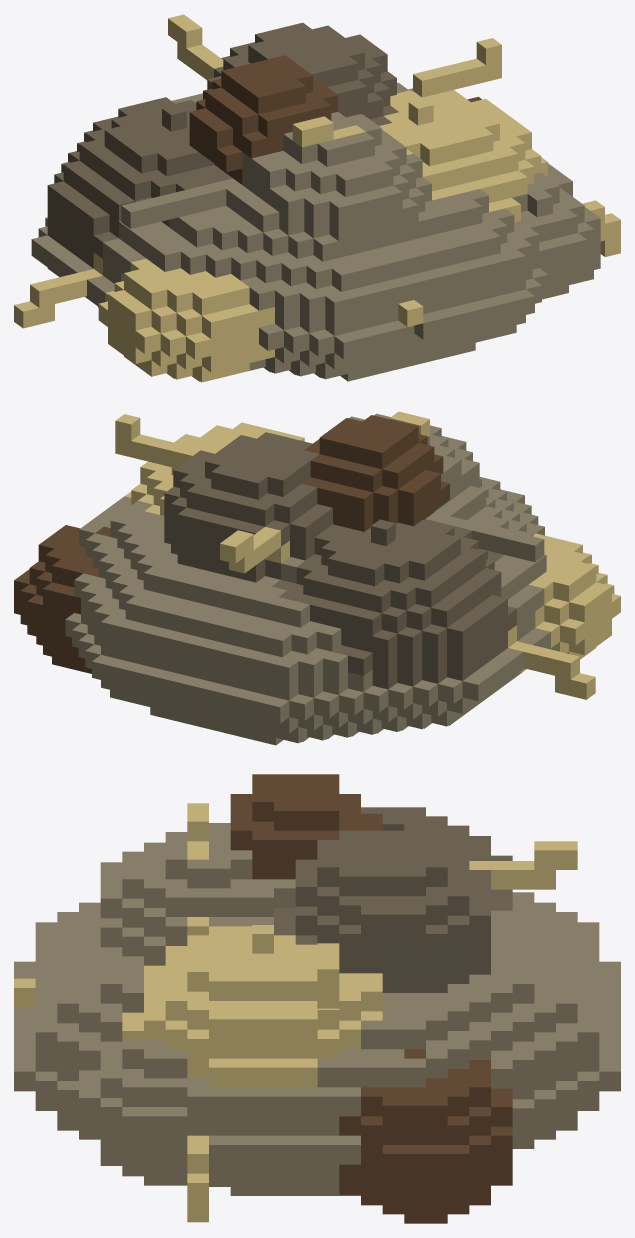
File: gambeson_batting.glb
The picture shows the model from 3 angles, top to bottom: view 1: azimuth 30°, elevation 25°; view 2: azimuth 150°, elevation 25°; view 3: azimuth 270°, elevation 25°; orthographic projection. The views are drawn at different scales.
Parts seen in each view (by area): view 1: gambeson_batting:compound; view 2: gambeson_batting:compound; view 3: gambeson_batting:compound.
Boxes of the visible parts, x1,y1,x2,y2 form: gambeson_batting:compound: (14,14,620,382); gambeson_batting:compound: (14,411,620,745); gambeson_batting:compound: (14,774,620,1223).
Bounding box in the file's own units: 0.068 × 0.032 × 0.056.
